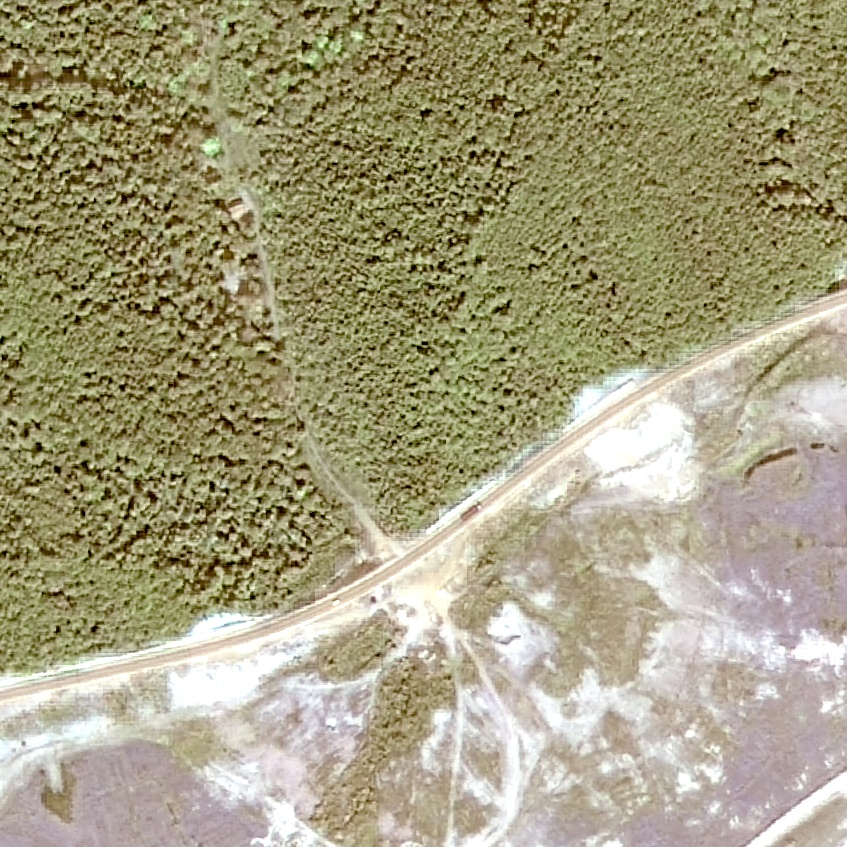slope: (582, 395, 701, 504)
